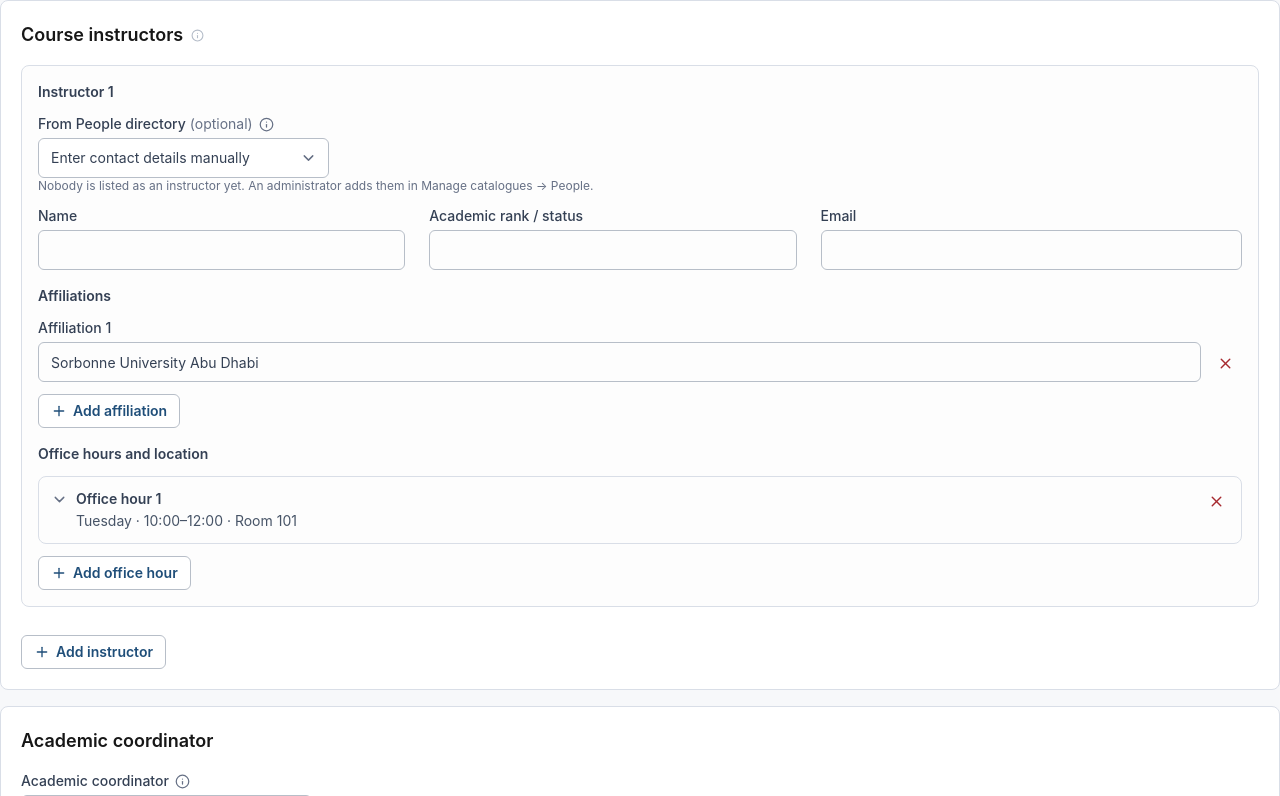
AcademicContactsEditor › turns affiliations into a list and structures office hours
Check: the text box labelled "Affiliation 1" holds "Sorbonne University Abu Dhabi", box [38,342,1201,382]
Check: the button "Add affiliation" is shown, box [38,394,180,428]
Click the button "Office hour 1 Tuesday · 10:00–12:00 · Room 101" at (116, 498), box [51,489,1192,531]
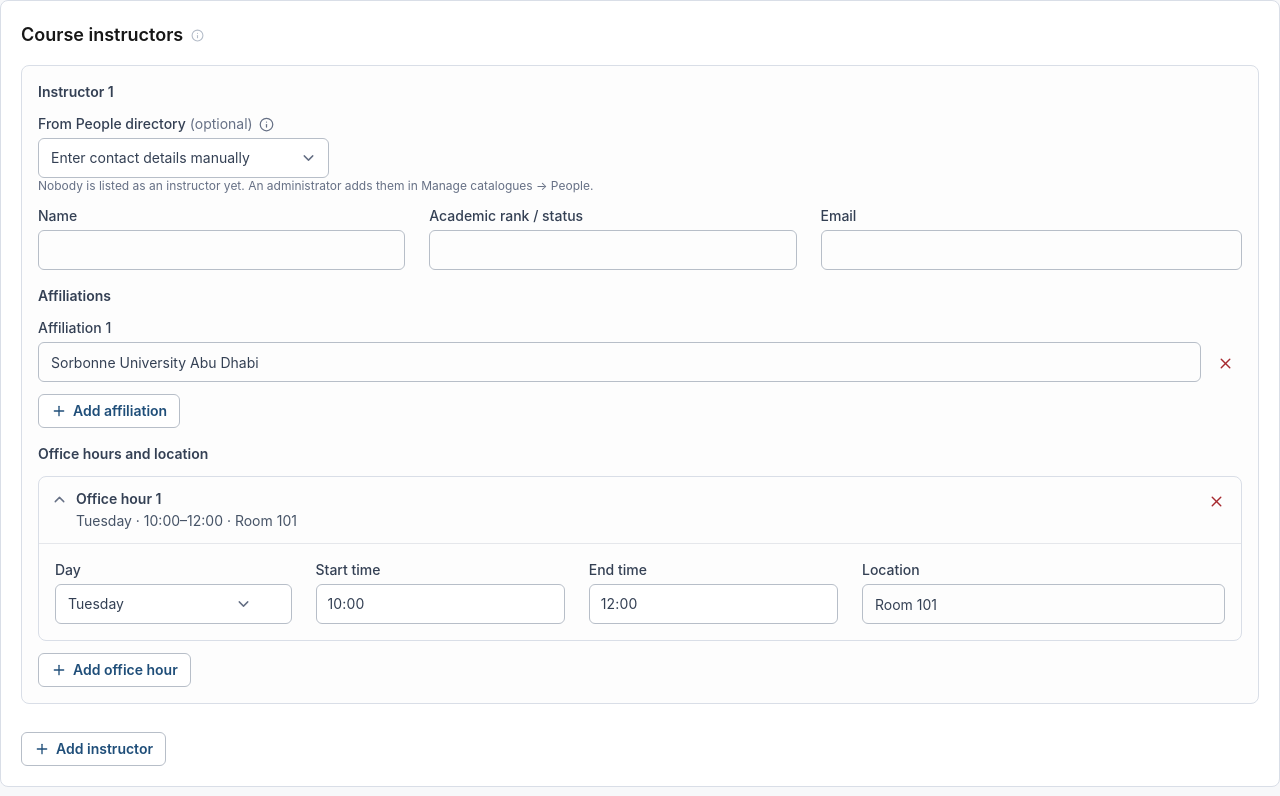
Check: the dropdown named "Office hour 1 day" is shown, box [55,584,292,624]
Check: the text box labelled "Location" holds "Room 101", box [862,584,1225,624]
